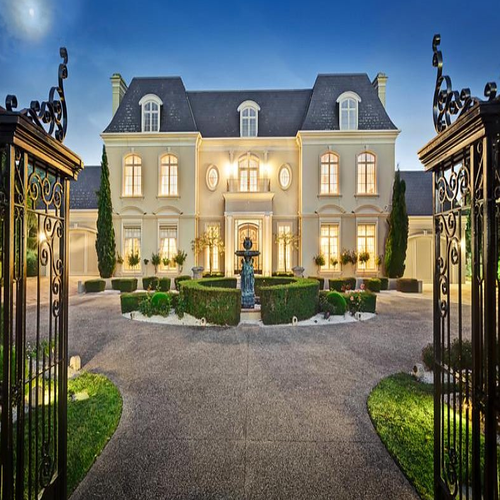Building House: (96, 61, 411, 327)
